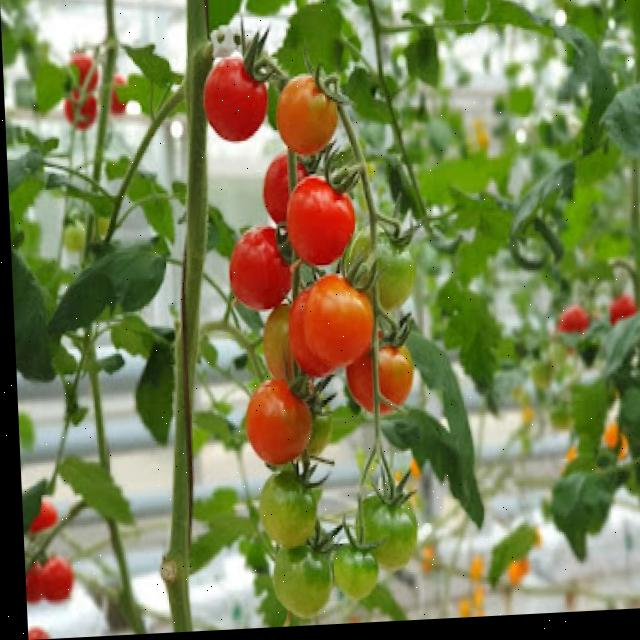overripe: (201, 44, 274, 159), (281, 171, 356, 270), (302, 269, 372, 370), (276, 67, 345, 167), (240, 376, 310, 471), (224, 223, 291, 311), (348, 338, 412, 419)
unripe: (348, 224, 417, 313), (356, 489, 420, 582), (260, 546, 331, 627), (252, 467, 317, 549), (329, 540, 373, 609)
